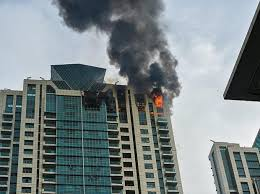smoke: (107, 30, 188, 91), (53, 1, 165, 28)
